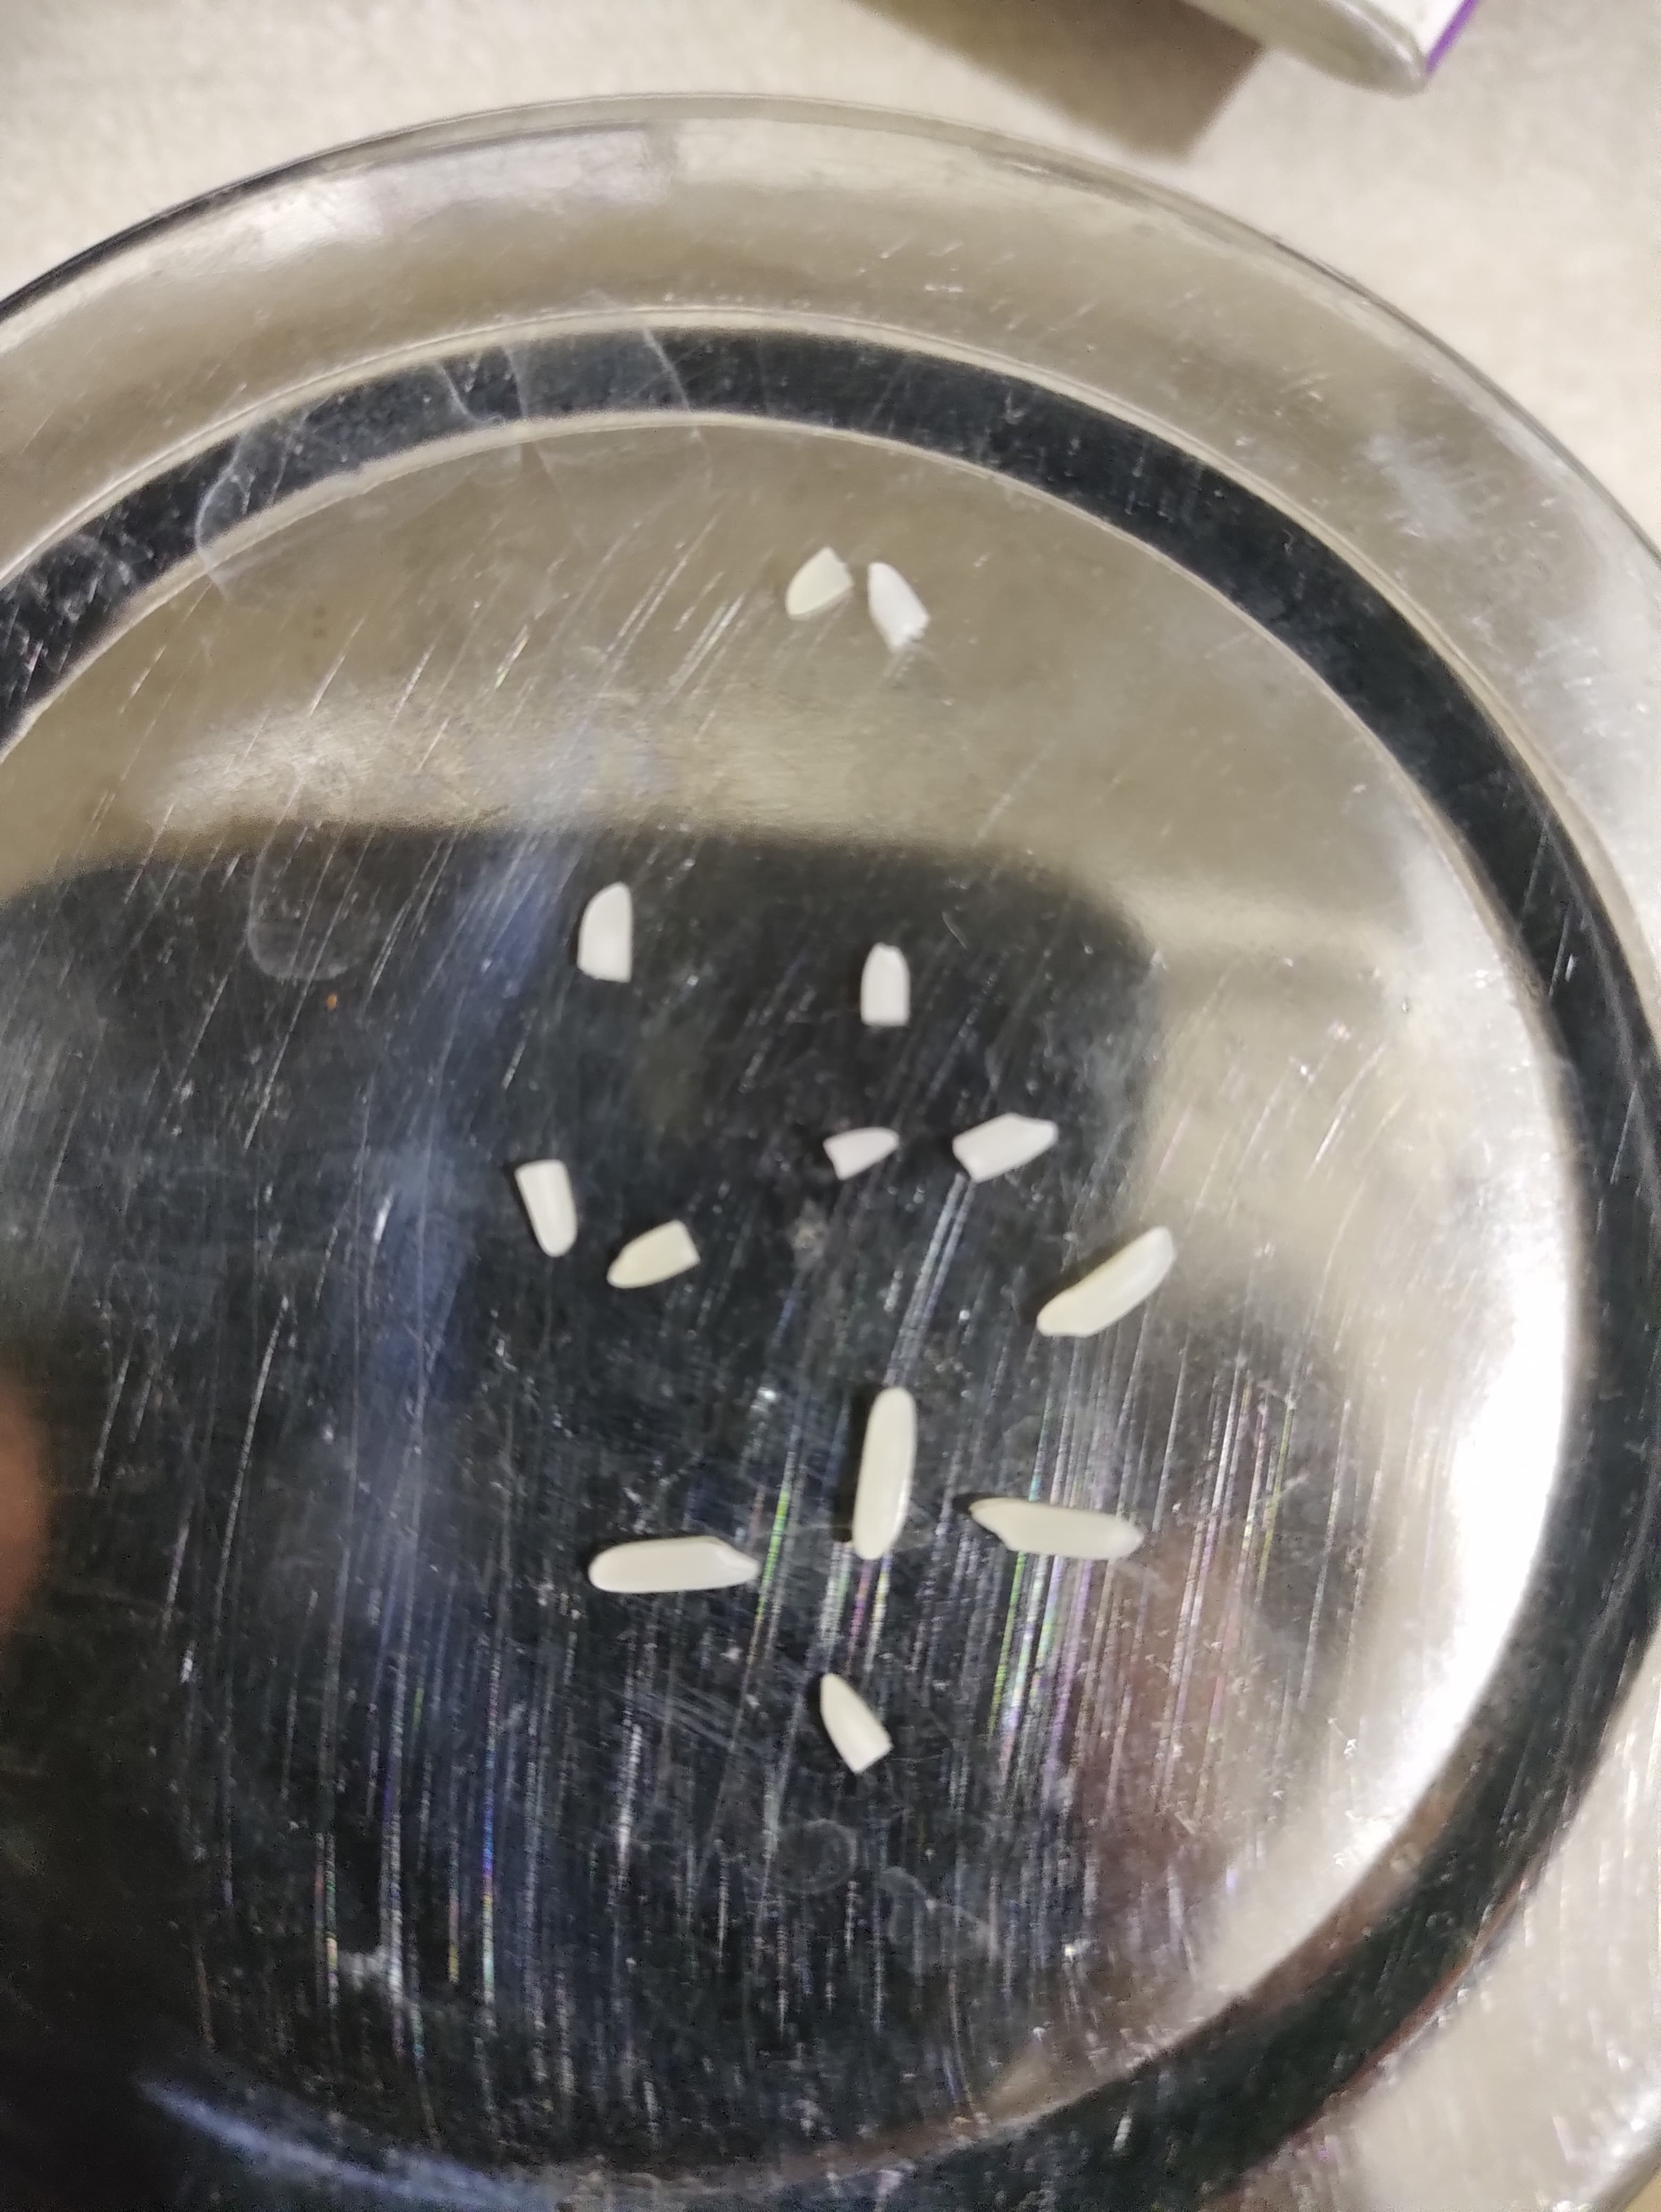broken_grain: (938, 1095, 1070, 1197), (565, 872, 653, 1004), (595, 1202, 708, 1302), (810, 1657, 897, 1787), (495, 1140, 587, 1266), (859, 555, 940, 659), (853, 938, 923, 1046), (774, 534, 857, 623), (821, 1115, 906, 1193)
complete_grain: (959, 1480, 1165, 1602), (1027, 1219, 1206, 1355), (840, 1370, 933, 1576), (570, 1521, 778, 1608)
